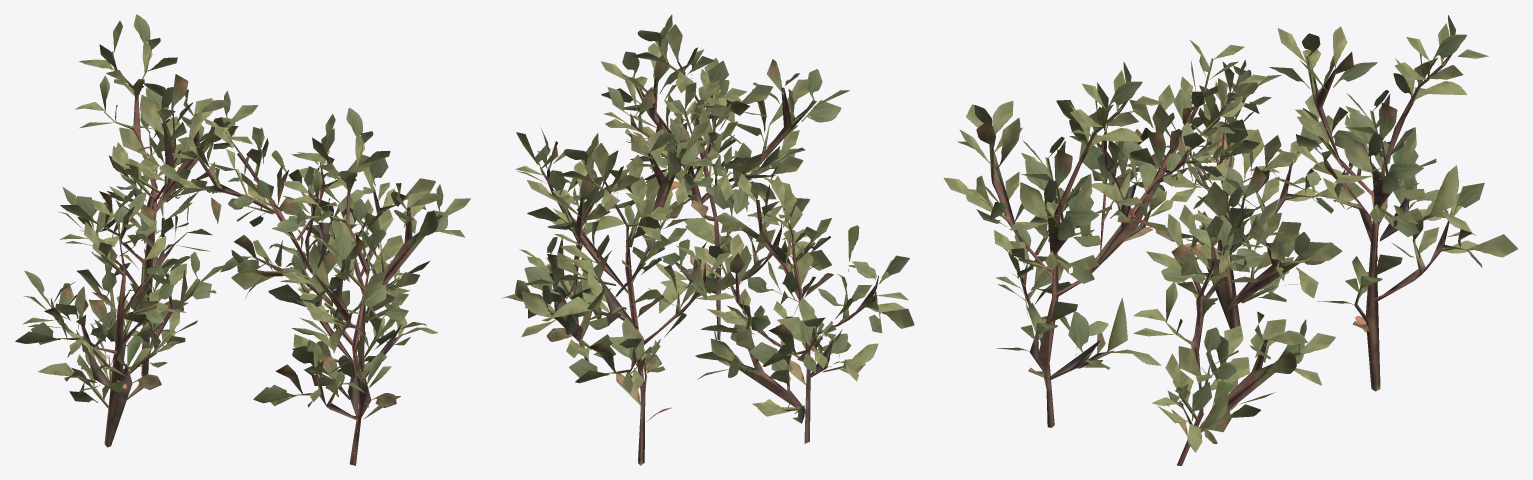
The model's file is ph_shrub_7.glb.
3 renders of one model, left to right at view 1: azimuth 30°, elevation 25°; view 2: azimuth 150°, elevation 25°; view 3: azimuth 270°, elevation 25°, orthographic. The views are drawn at different scales.
Visible parts, largest first — view 1: ph_shrub_7_lod1; view 2: ph_shrub_7_lod1; view 3: ph_shrub_7_lod1.
Boxes of the visible parts, bbox=[...] form: ph_shrub_7_lod1: bbox=[15, 14, 470, 465]; ph_shrub_7_lod1: bbox=[502, 14, 914, 465]; ph_shrub_7_lod1: bbox=[943, 15, 1517, 465].
Bounding box in the file's own units: 0.2785 × 0.2143 × 0.2945.
1 material, 1 textured.
